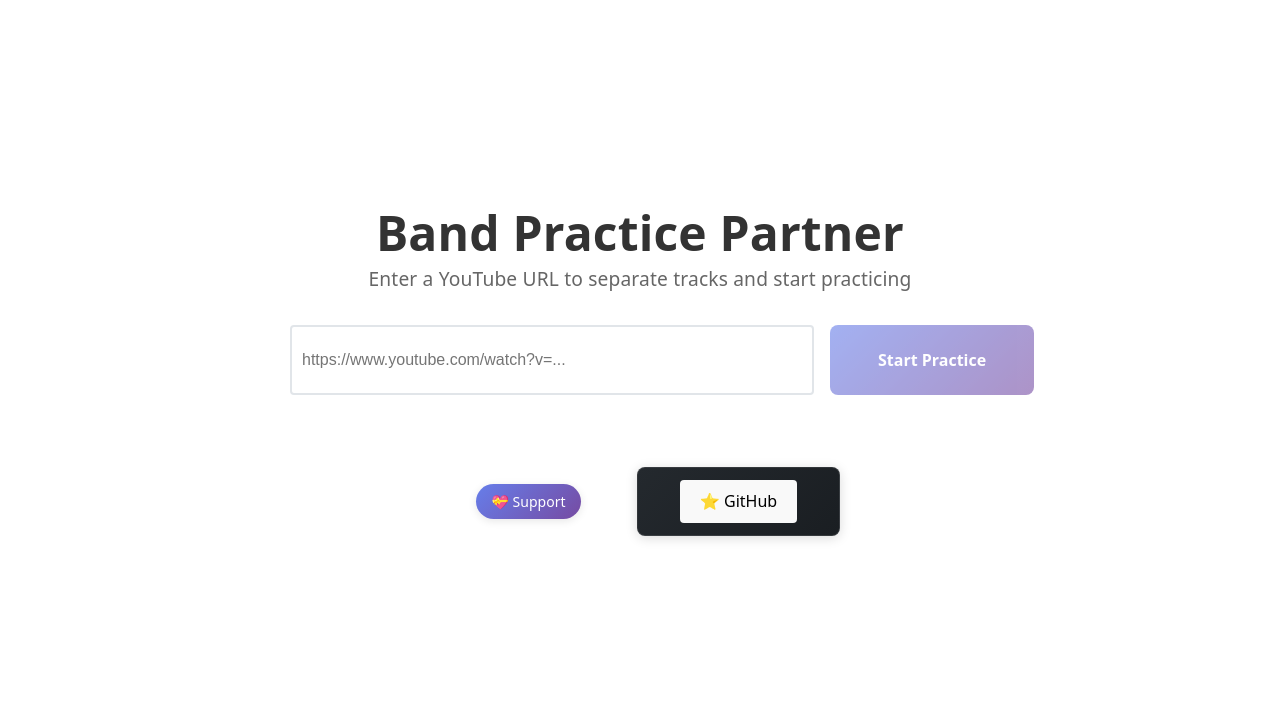
MainPage › disables input and submit button during loading
This screenshot has width=1280, height=720.
Type "https://www.youtube.com/watch?v=dQw4w9WgXcQ" into the field with placeholder "https://www.youtube.com/watch?v=..." at (552, 360), box left=290, top=325, right=814, bottom=395
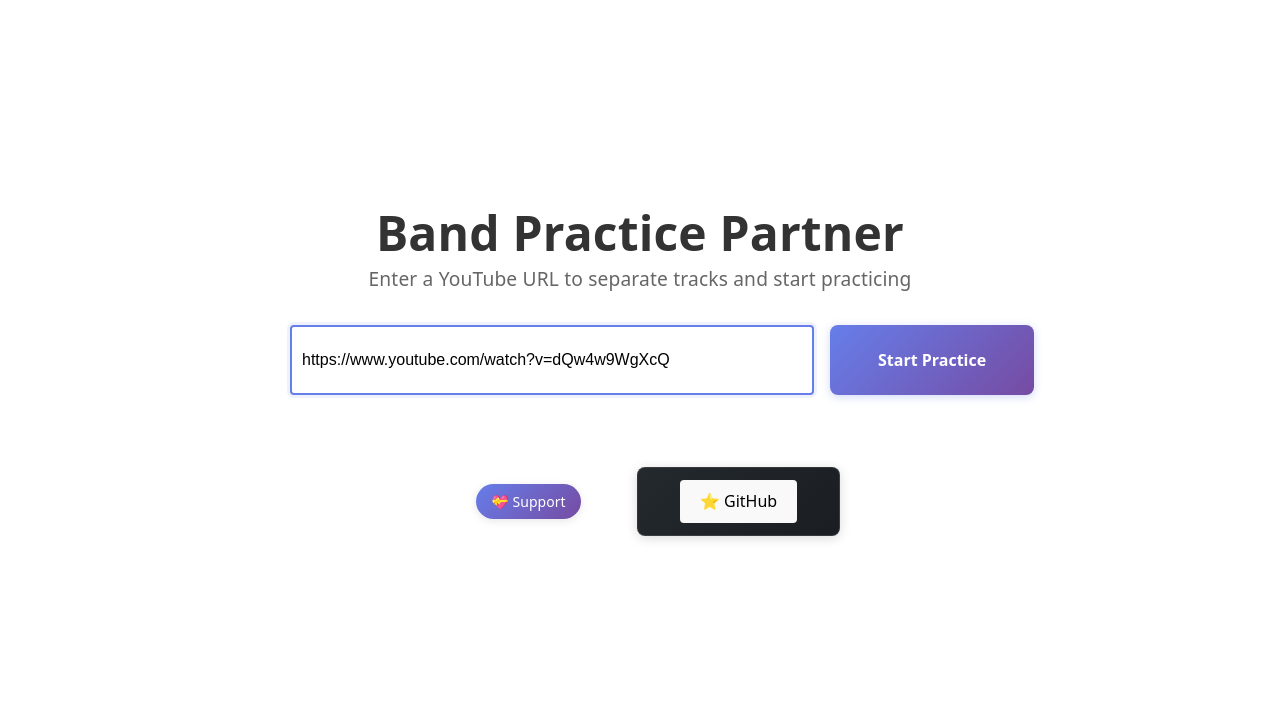
Click the button "Start Practice" at (932, 360), box left=830, top=325, right=1034, bottom=395
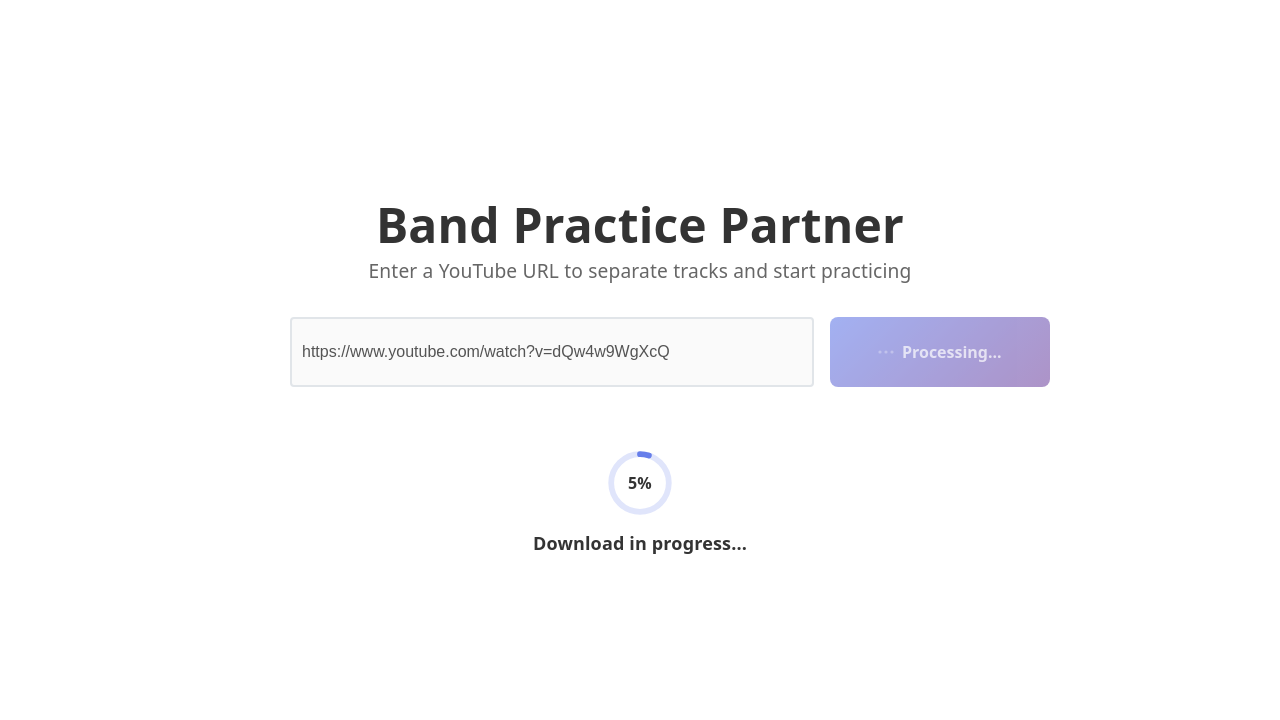
Expected: the field with placeholder "https://www.youtube.com/watch?v=..." is disabled, left=290, top=317, right=814, bottom=387
Expected: the button "Processing..." is disabled, left=830, top=317, right=1050, bottom=387
